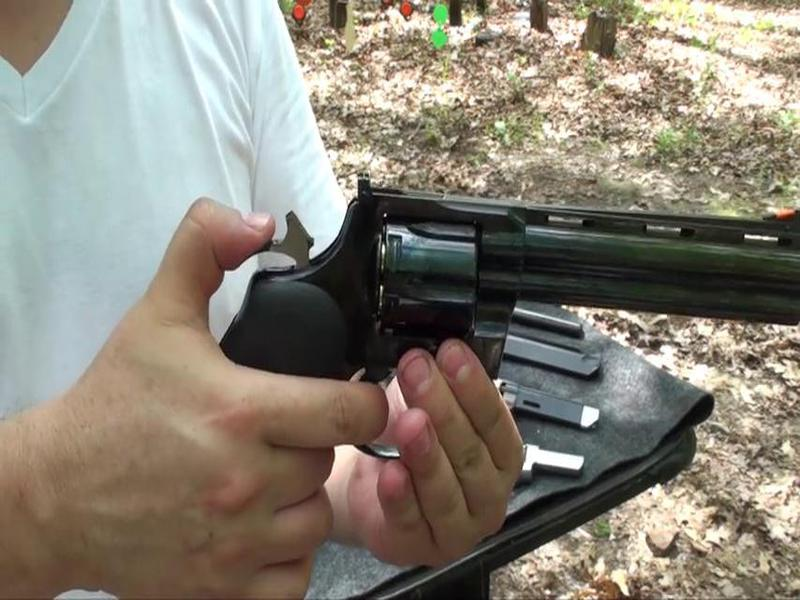Revolver: (241, 160, 800, 410)
